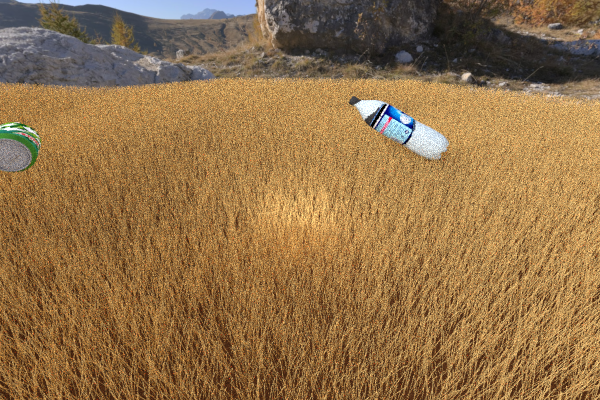bottle: (349, 96, 448, 160)
can: (0, 122, 41, 172)
